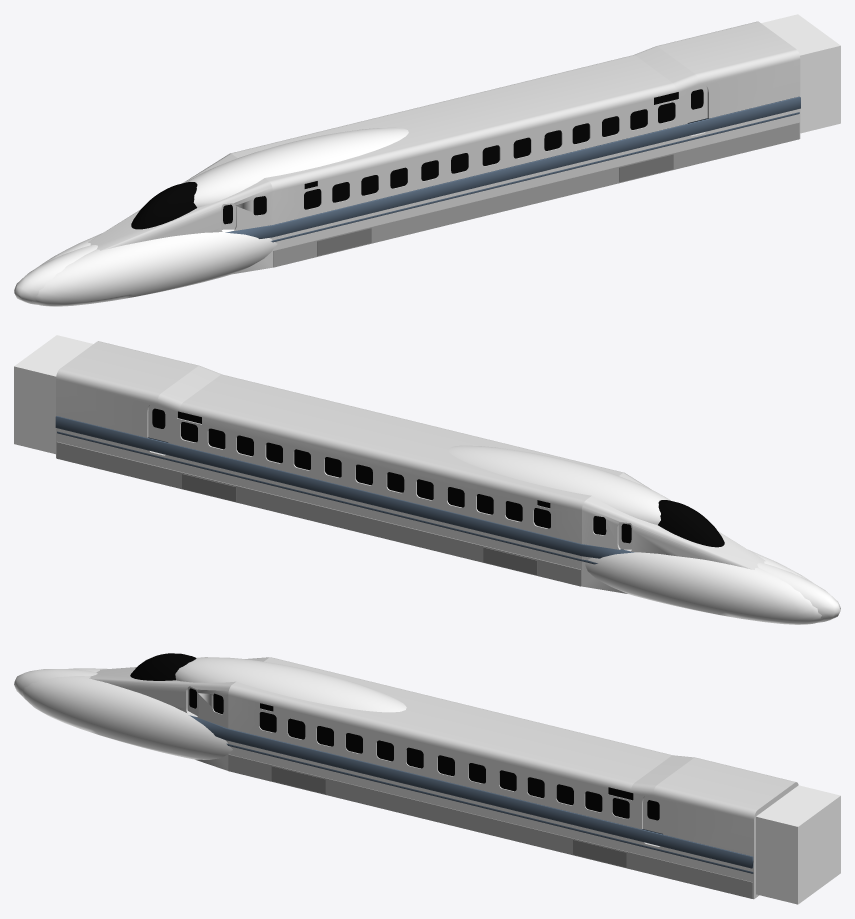
Rendered from shinkansen.glb.
3 views of the same model, one above another, from view 1: azimuth 30°, elevation 25°; view 2: azimuth 150°, elevation 25°; view 3: azimuth 330°, elevation 25° (orthographic).
Visible parts, largest first — view 1: Cube, Sphere, Cube.020, Cube.002, Sphere.003, Cube.053, Cube.076, Sphere.001, Sphere.004, Cube.015, Cube.072; view 2: Cube, Sphere.002, Cube.019, Cube.002, Sphere.003, Cube.053, Cube.018, Sphere.001, Sphere.004, Cube.072, Cube.015; view 3: Cube, Sphere, Cube.020, Cube.053, Cube.002, Sphere.003, Cube.076, Sphere.001, Cube.072, Cube.015, Sphere.004, Cube.051.
Part boxes in pixels (<box>): Cube: <box>88,21,800,273</box>; Sphere: <box>32,229,277,306</box>; Cube.020: <box>225,96,800,242</box>; Cube.002: <box>273,122,799,267</box>; Sphere.003: <box>186,127,408,207</box>; Cube.053: <box>761,14,840,133</box>; Cube.076: <box>304,102,675,209</box>; Sphere.001: <box>131,182,197,229</box>; Sphere.004: <box>14,245,97,305</box>; Cube.015: <box>619,154,673,182</box>; Cube.072: <box>317,228,371,255</box>; Cube: <box>56,341,765,593</box>; Sphere.002: <box>585,549,823,624</box>; Cube.019: <box>55,416,634,564</box>; Cube.002: <box>56,441,581,586</box>; Sphere.003: <box>448,445,670,524</box>; Cube.053: <box>14,335,93,454</box>; Cube.018: <box>181,422,550,528</box>; Sphere.001: <box>658,500,724,547</box>; Sphere.004: <box>757,563,840,622</box>; Cube.072: <box>483,547,537,575</box>; Cube.015: <box>182,473,236,501</box>; Cube: <box>89,657,798,899</box>; Sphere: <box>21,676,232,759</box>; Cube.020: <box>189,715,753,873</box>; Cube.053: <box>756,785,840,904</box>; Cube.002: <box>228,754,752,898</box>; Sphere.003: <box>175,657,406,712</box>; Cube.076: <box>259,712,629,818</box>; Sphere.001: <box>130,653,196,680</box>; Cube.072: <box>271,766,325,793</box>; Cube.015: <box>573,839,626,867</box>; Sphere.004: <box>14,669,97,695</box>; Cube.051: <box>643,796,662,846</box>.
Bounding box in the file's own units: 9.12 × 1.01 × 0.9353.
